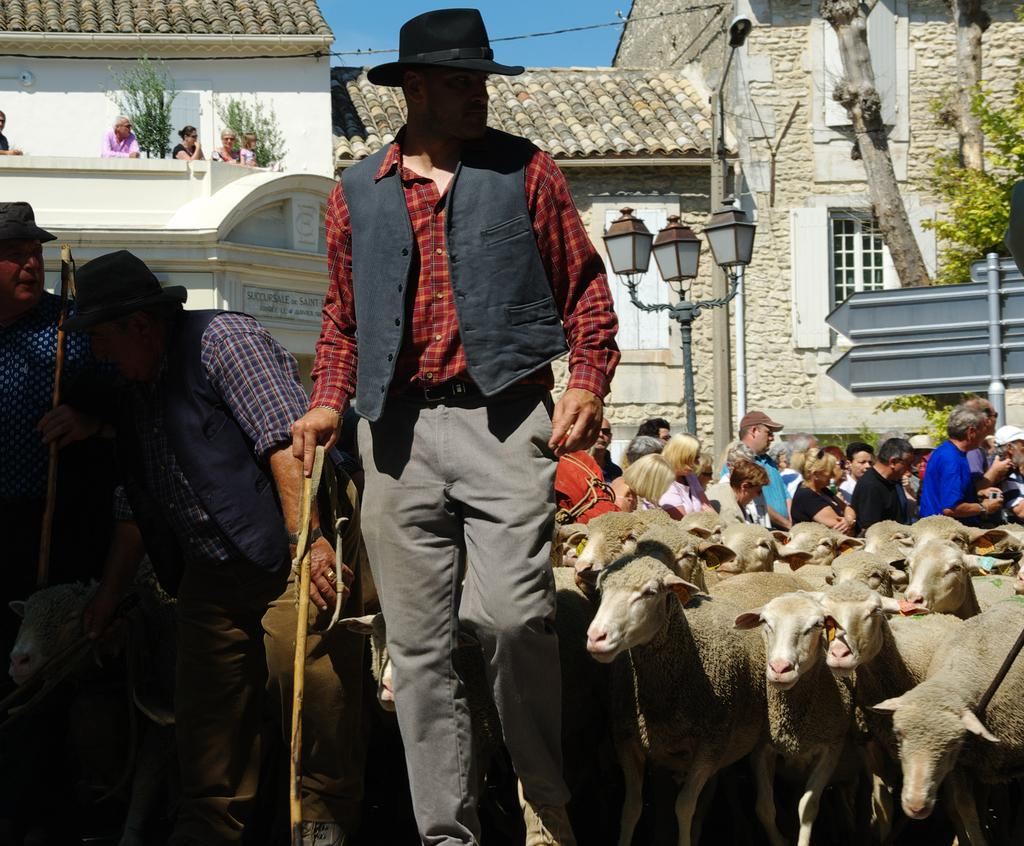Hat: (360, 6, 526, 87), (57, 251, 189, 334), (0, 198, 56, 244), (738, 409, 784, 431), (995, 422, 1023, 443)
